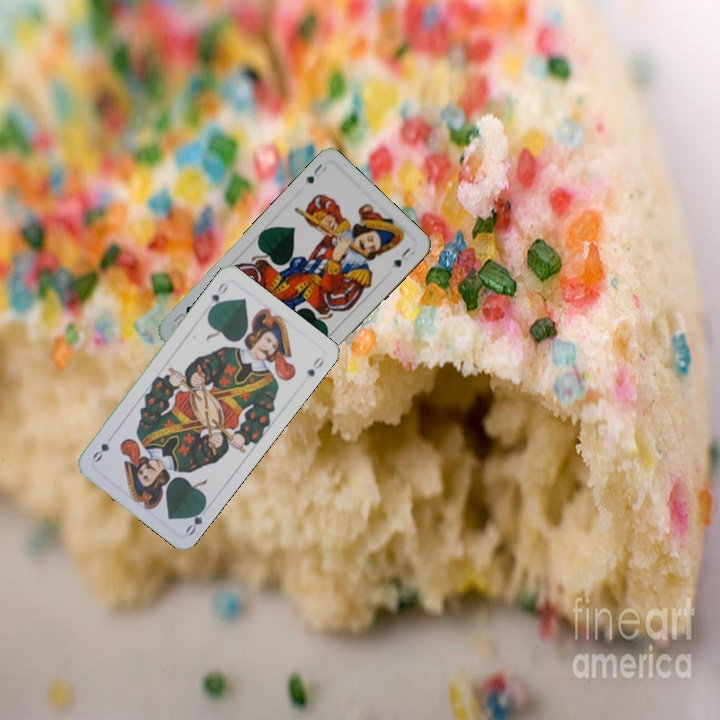GO: (181, 500, 209, 538), (204, 278, 231, 315)
GU: (301, 160, 329, 186)
